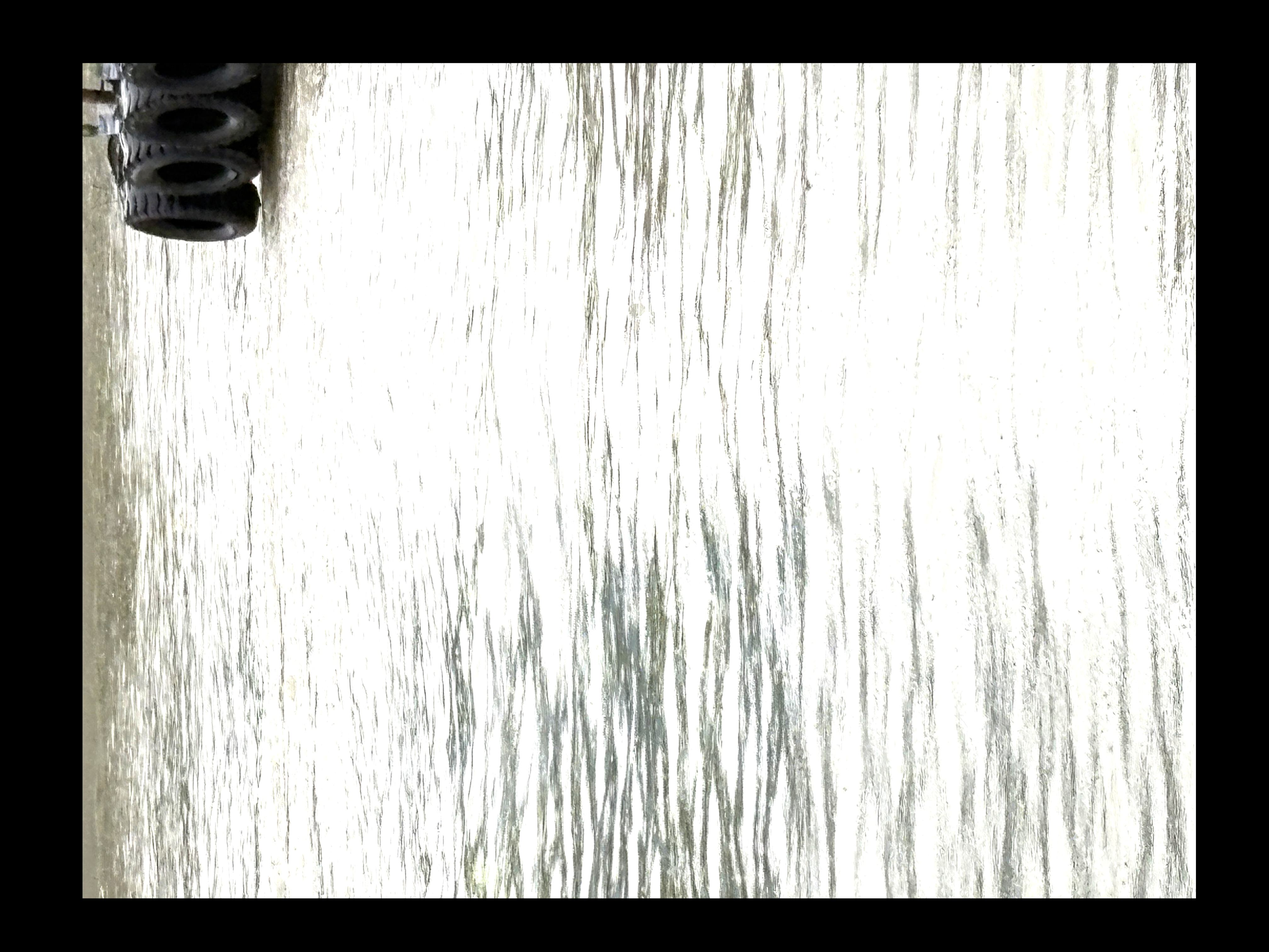Plastic wastes: (721, 583, 744, 661)
